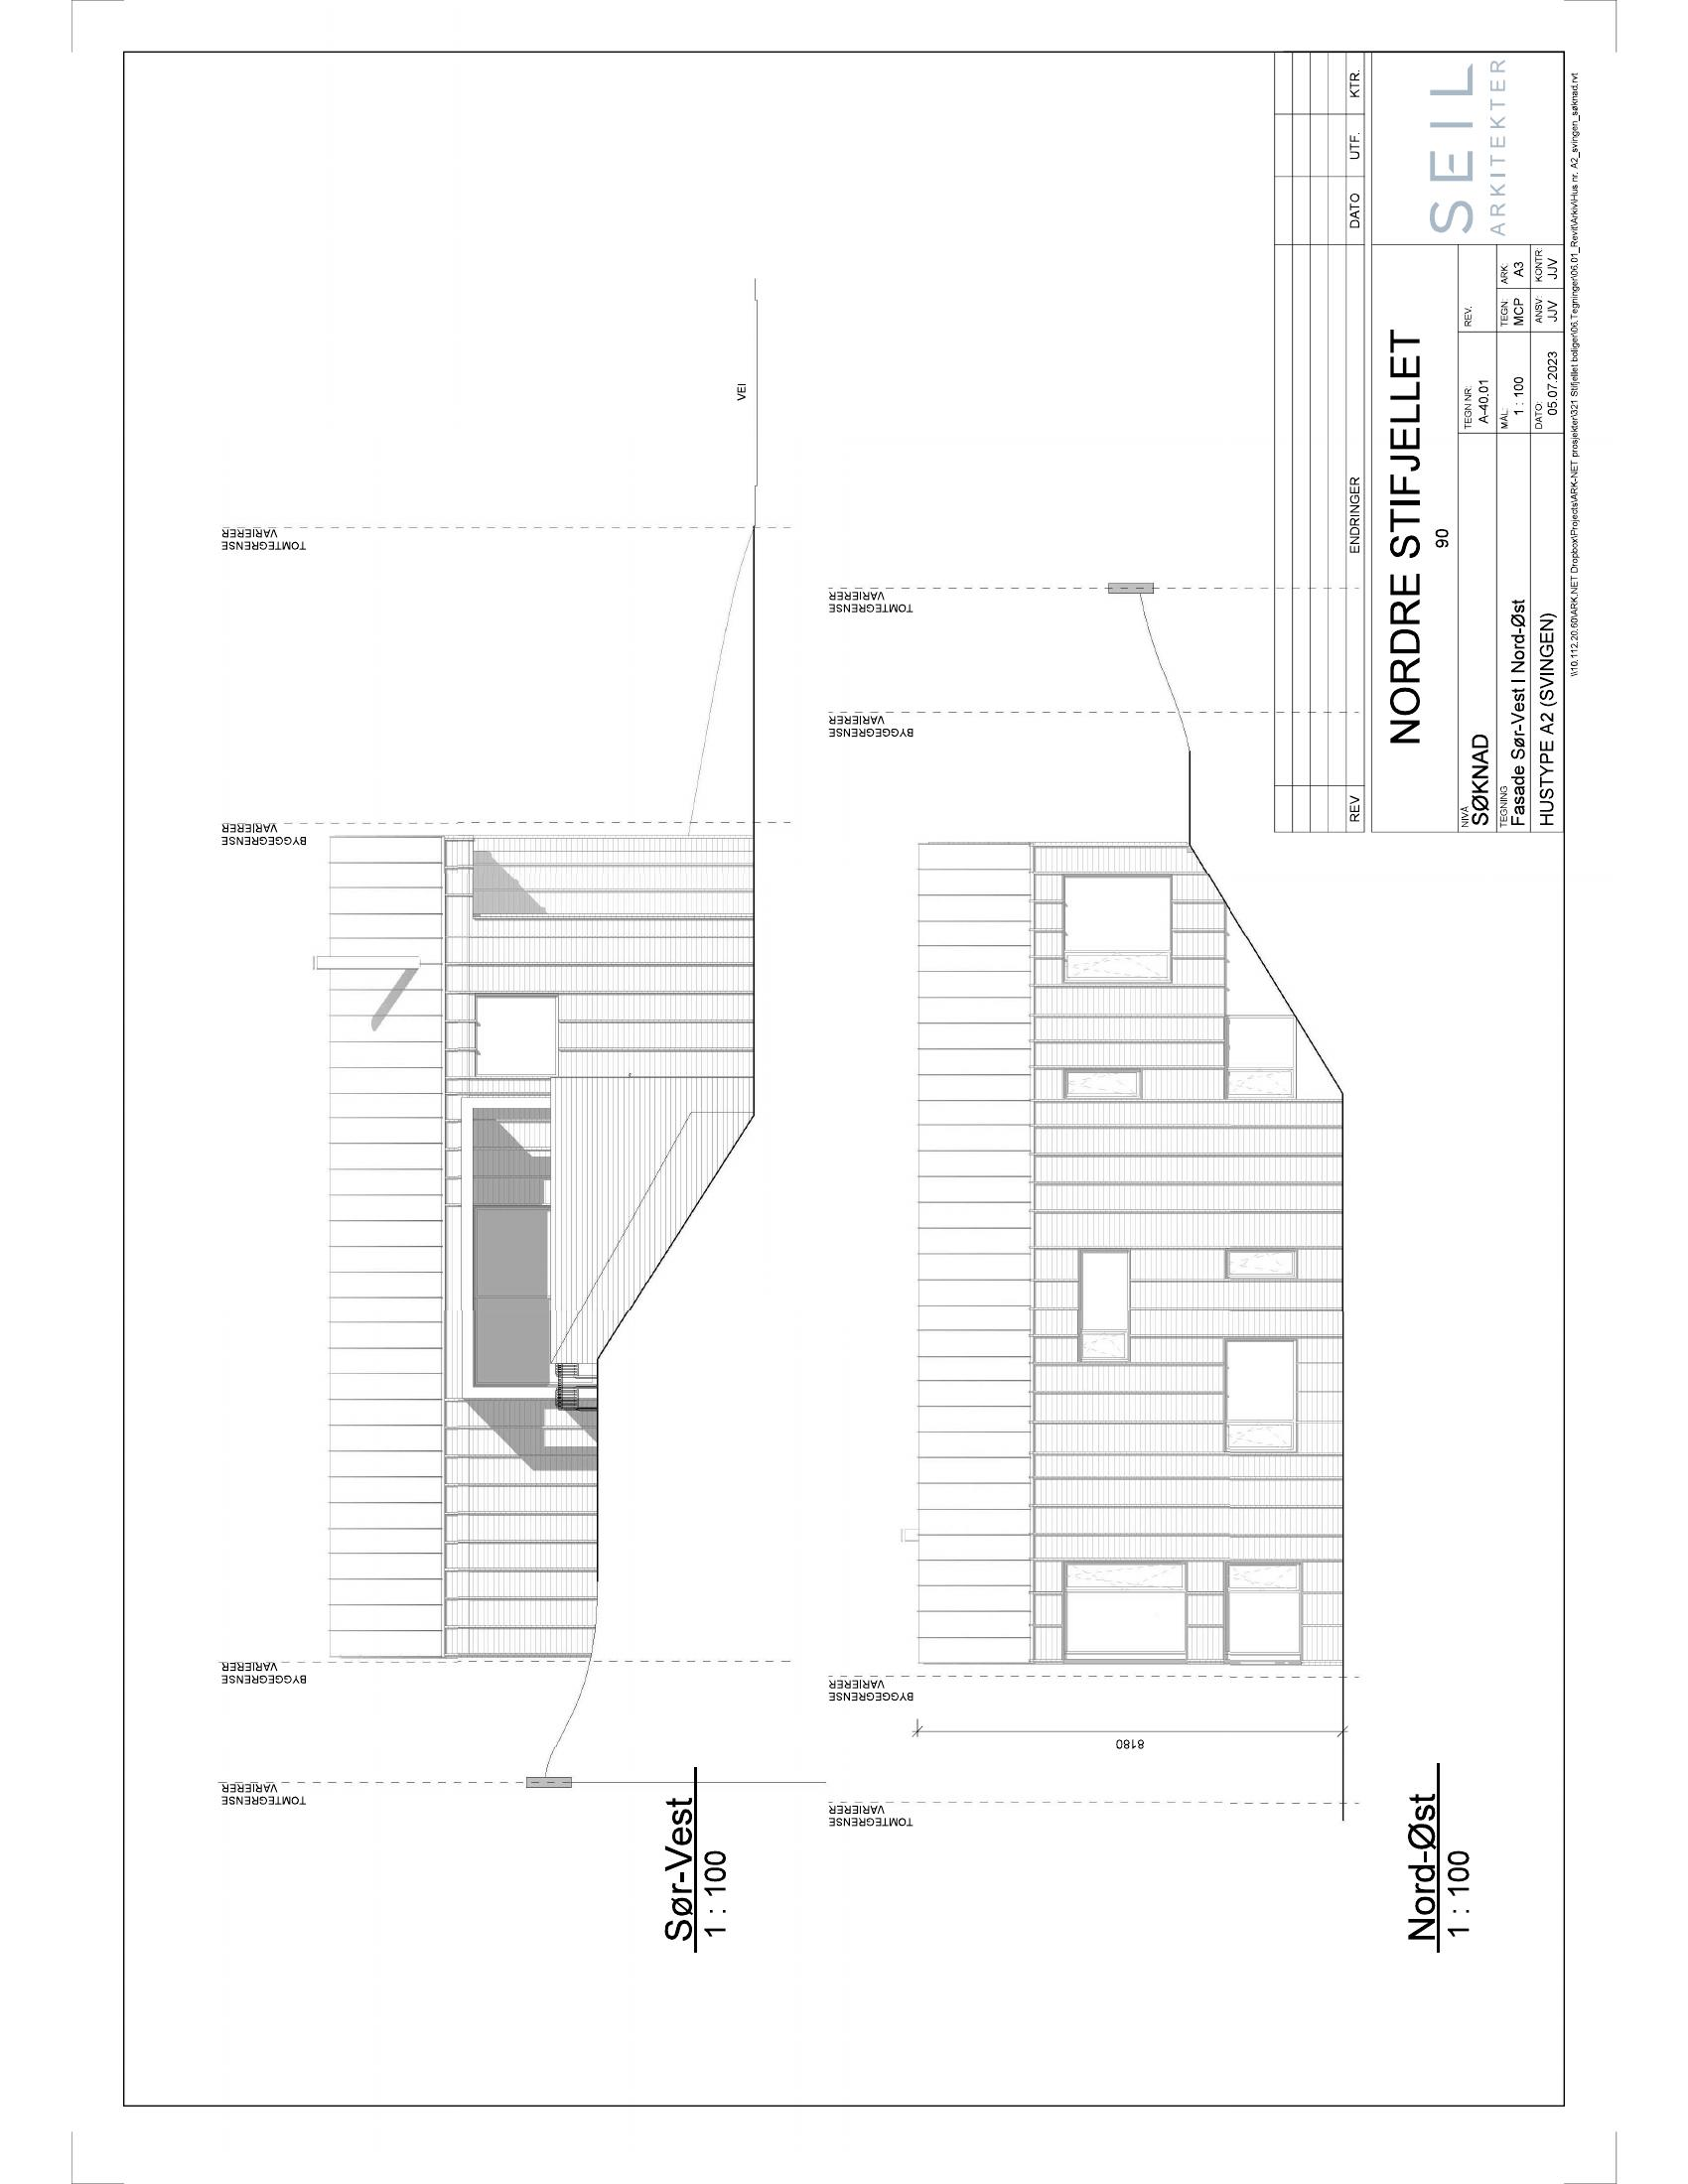fasade: (280, 791, 772, 1743), (890, 823, 1361, 1784)
